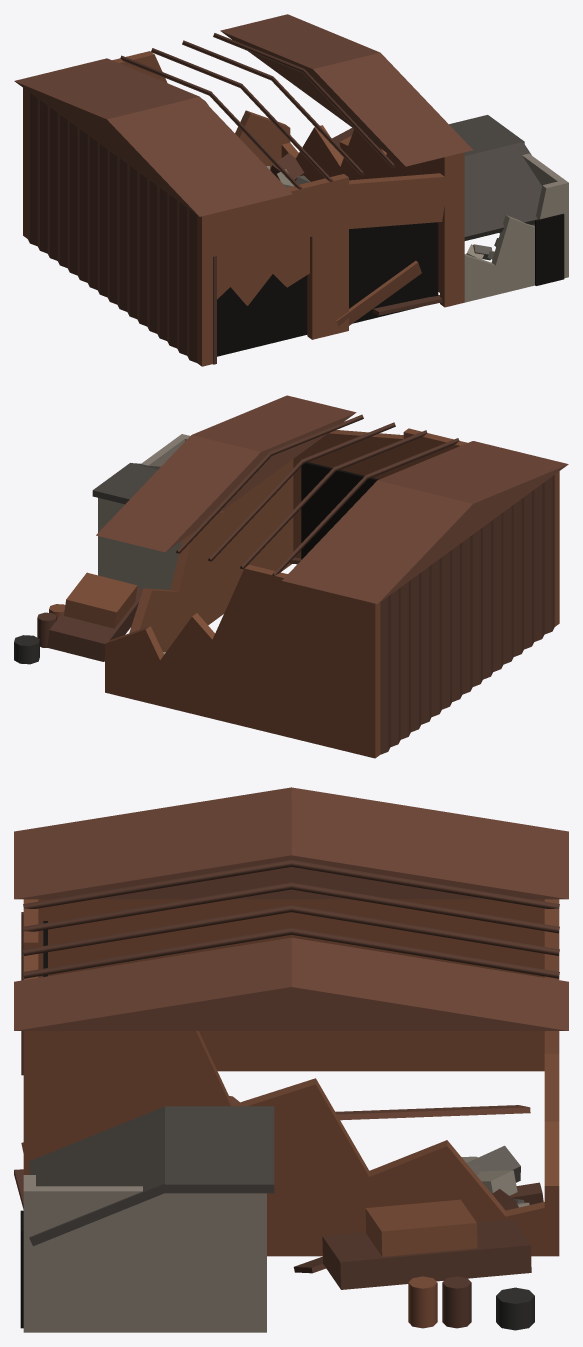
3 renders of one model, top to bottom at view 1: azimuth 30°, elevation 25°; view 2: azimuth 150°, elevation 25°; view 3: azimuth 270°, elevation 25°, orthographic. The views are drawn at different scales.
Parts seen in each view (by area): view 1: site_garage_ruin; view 2: site_garage_ruin; view 3: site_garage_ruin.
Part boxes in pixels (bbox=[...]): site_garage_ruin: bbox=[14, 14, 568, 366]; site_garage_ruin: bbox=[14, 395, 568, 758]; site_garage_ruin: bbox=[14, 787, 568, 1332].
Size of the model in its own units: 13.3 by 6.28 by 11.4.
